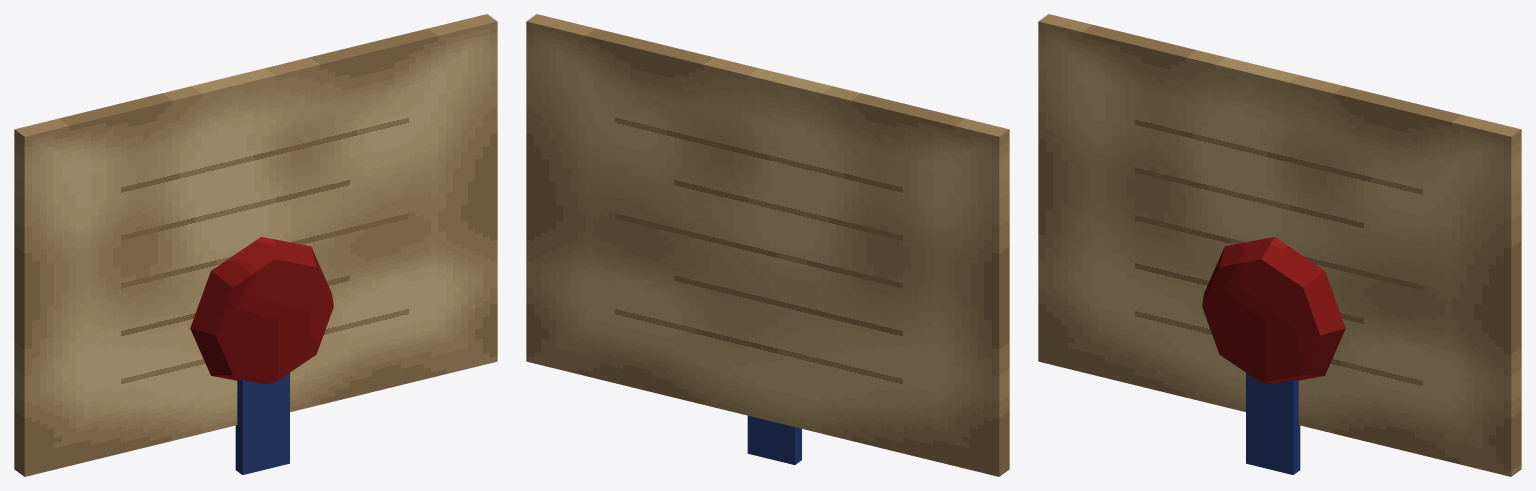
The model's file is card.glb.
3 views of the same model, side by side, from view 1: azimuth 30°, elevation 25°; view 2: azimuth 150°, elevation 25°; view 3: azimuth 330°, elevation 25° (orthographic).
Visible parts, largest first — view 1: Card; view 2: Card; view 3: Card.
Part boxes in pixels (<box>): Card: <box>14,14,497,476</box>; Card: <box>526,14,1009,476</box>; Card: <box>1038,14,1521,476</box>.
Size of the model in its own units: 0.16 by 0.125 by 0.014.
3 materials, 3 textured.
